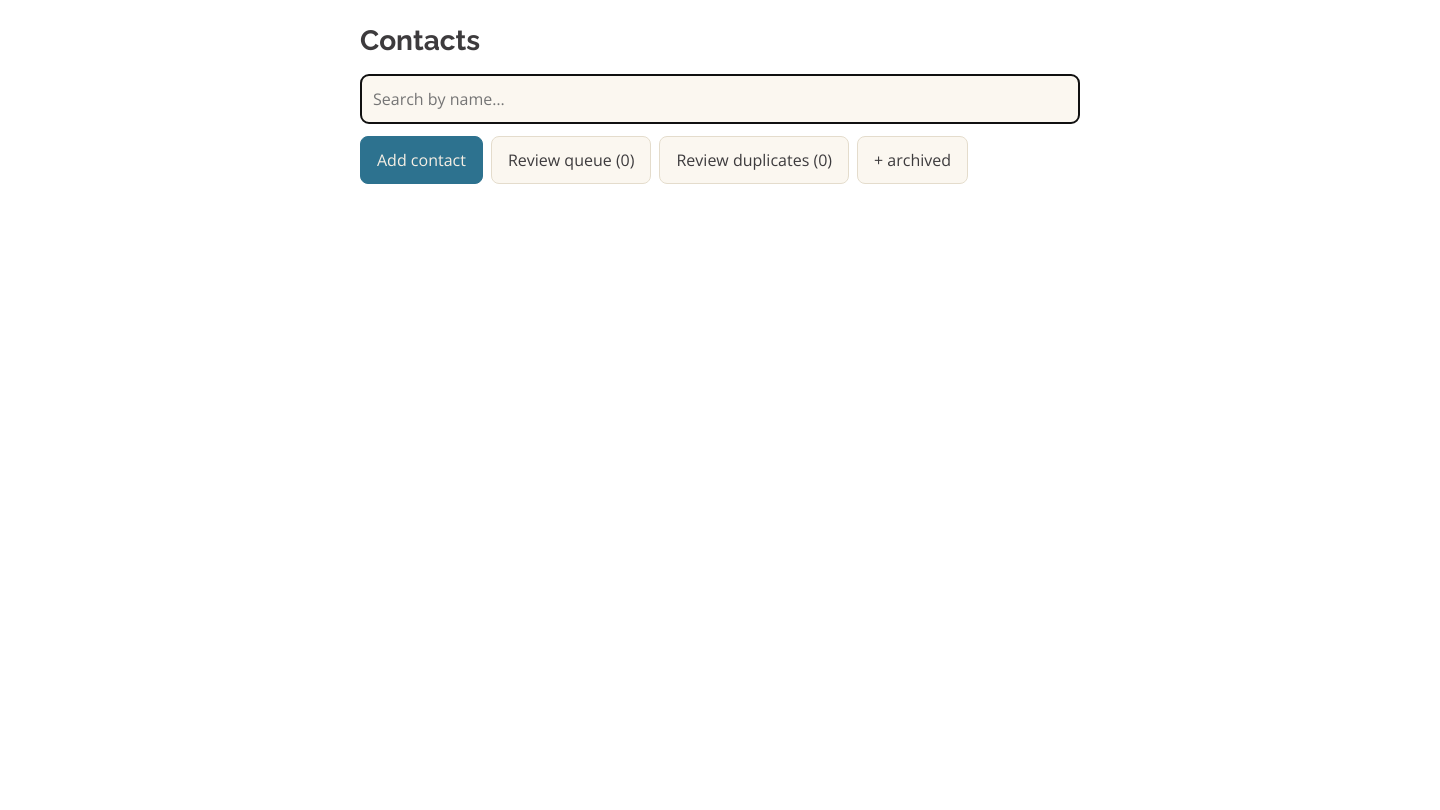
Test: record editor (feature 063, via launcher) › shows Mark reviewed only for a flagged contact
The width and height of the screenshot is (1440, 810).
Type "x" into the field with placeholder "Search by name…" at [720, 99], box [360,74,1080,124]
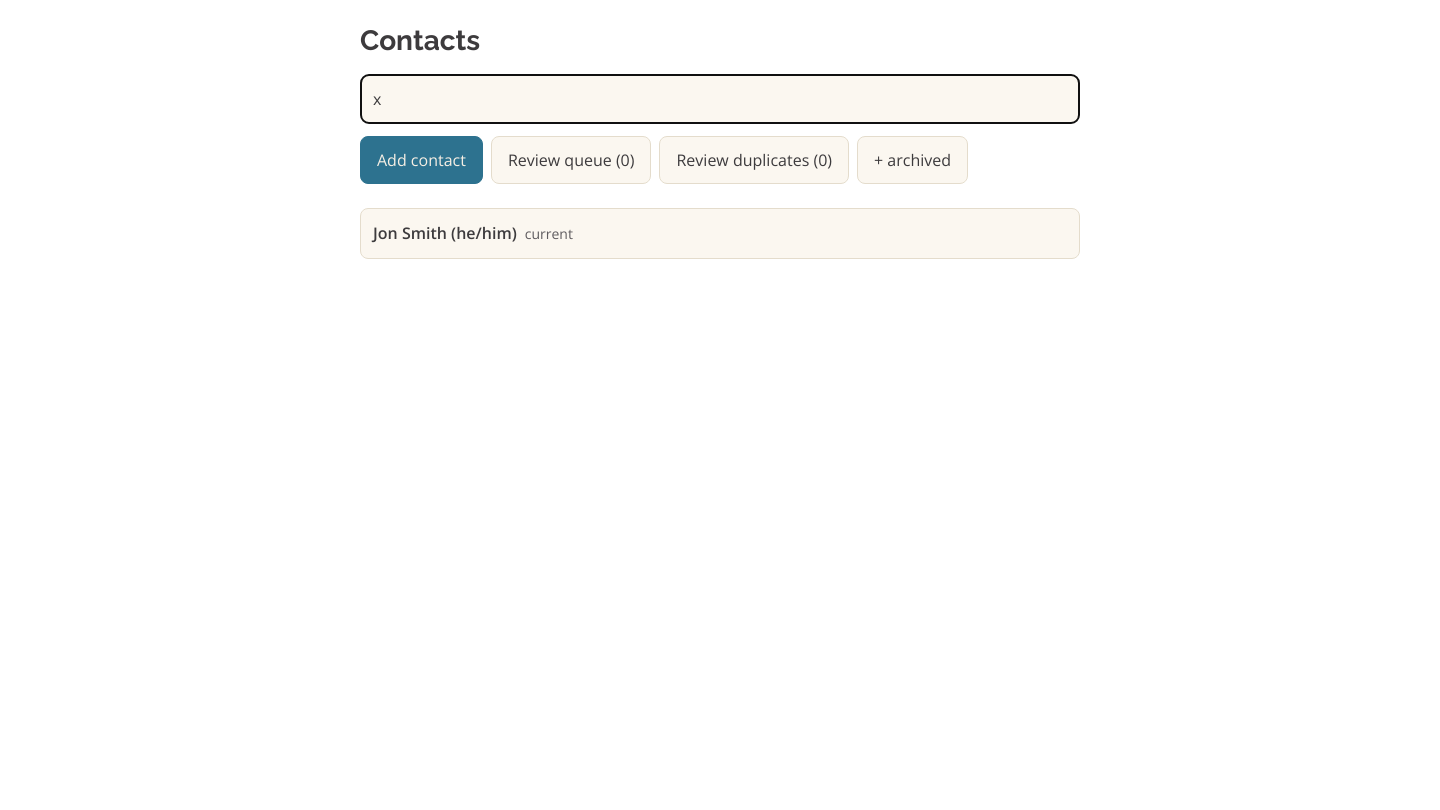
Click the button "Jon Smith (he/him) current" at [410, 233], box [360,208,1080,259]
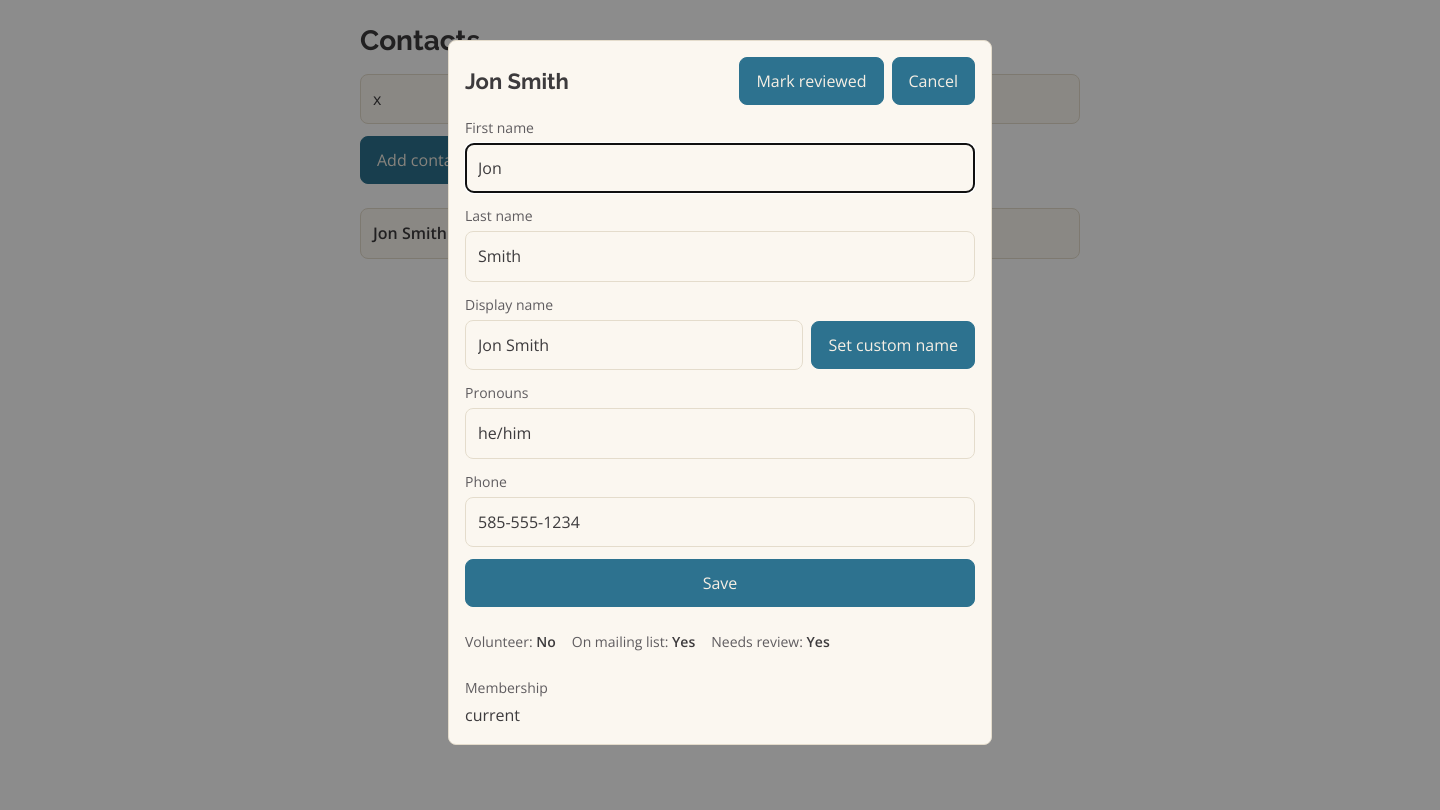
Expected: the button "Mark reviewed" is shown, [739,57,884,105]
